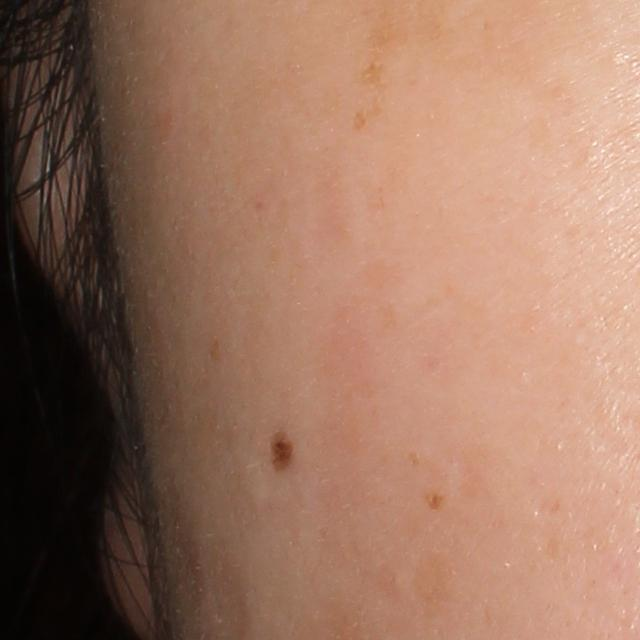nevus: (273, 435, 295, 472)
